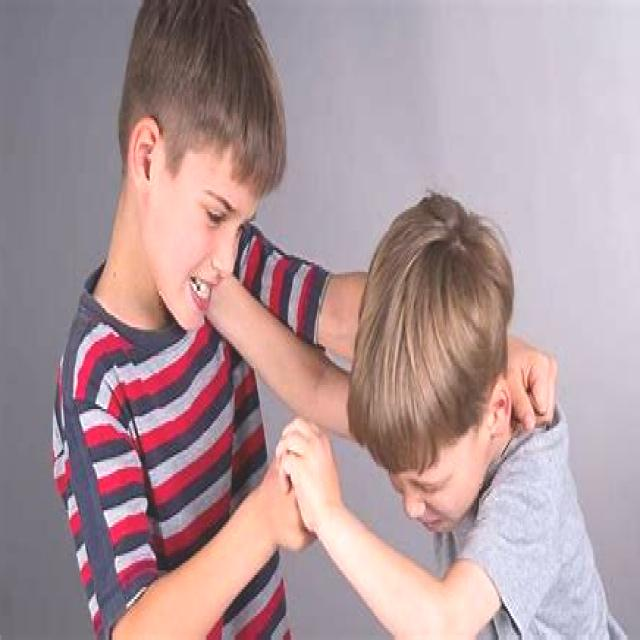fight: (27, 18, 576, 620)
